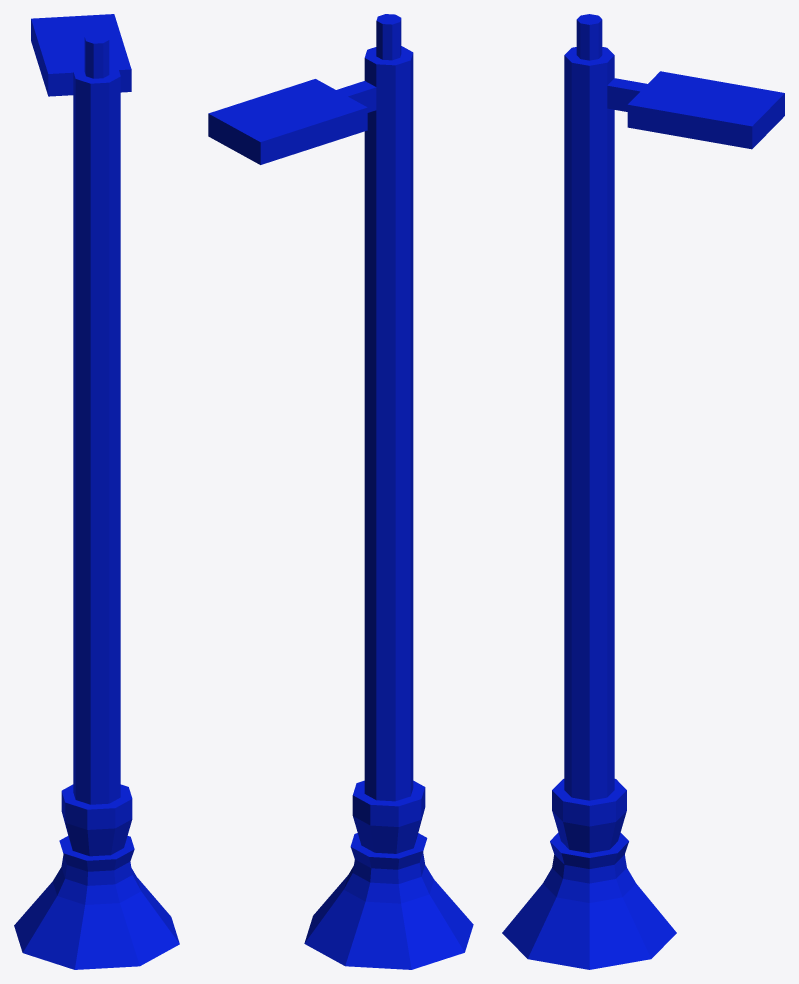
File: farola.fbx
3 views of the same model, side by side, from view 1: azimuth 30°, elevation 25°; view 2: azimuth 150°, elevation 25°; view 3: azimuth 270°, elevation 25° (orthographic). The views are drawn at different scales.
Visible parts, largest first — view 1: Cylinder; view 2: Cylinder; view 3: Cylinder.
Part boxes in pixels (bbox=[...]): Cylinder: bbox=[14, 14, 179, 969]; Cylinder: bbox=[208, 14, 473, 969]; Cylinder: bbox=[502, 14, 784, 969].
Bounding box in the file's own units: 277 × 1382 × 388.
